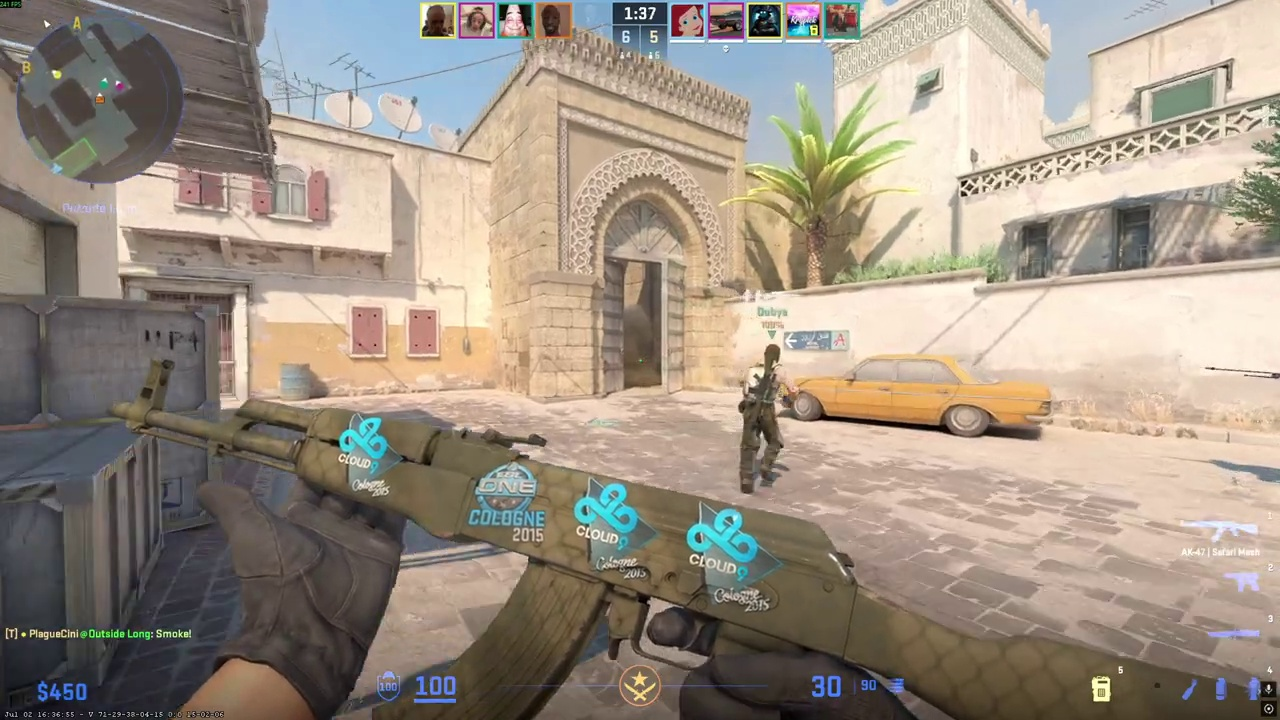Terrorist: (738, 344, 795, 494)
